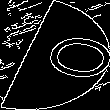O_W: (9, 26, 101, 84)
